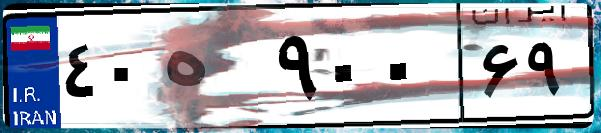0: (385, 28, 445, 110), (330, 28, 385, 110), (110, 28, 158, 98)
4: (57, 26, 110, 100)
6: (475, 38, 525, 113)
9: (270, 28, 330, 110), (525, 38, 570, 115)
ه: (158, 20, 270, 120)
